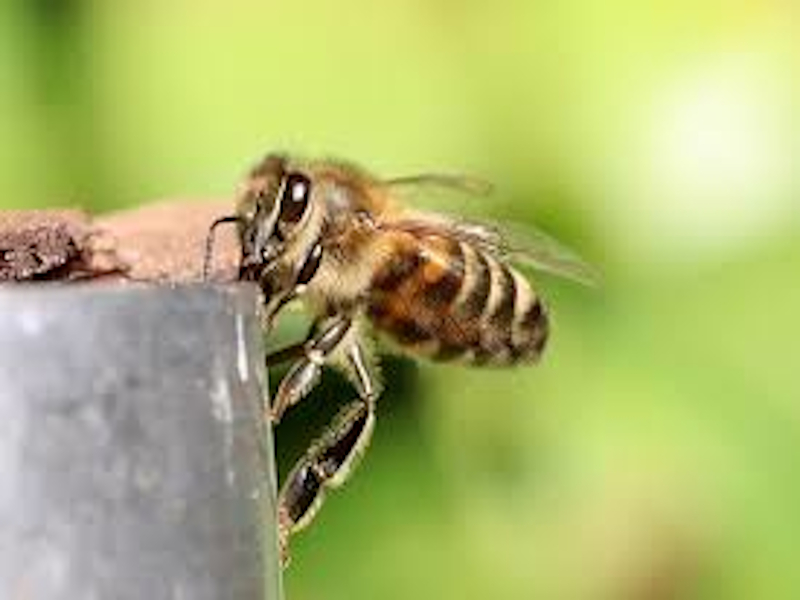abeja: (172, 136, 611, 403)
